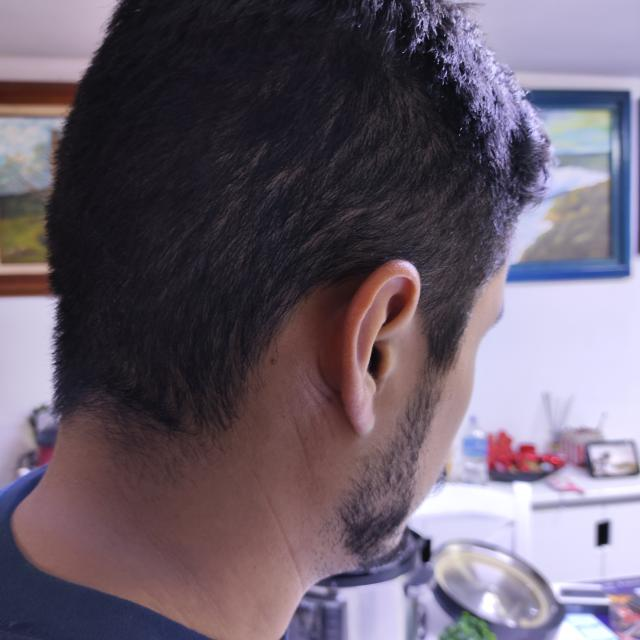ear: (341, 260, 420, 435)
